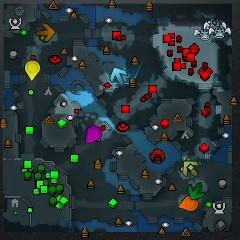p3: (85, 125, 103, 144)
p4: (25, 61, 41, 81)
p5: (178, 195, 199, 211)
x2: (183, 161, 199, 177)
x3: (110, 68, 127, 85)
x4: (189, 182, 205, 200)
x5: (36, 23, 55, 42)
